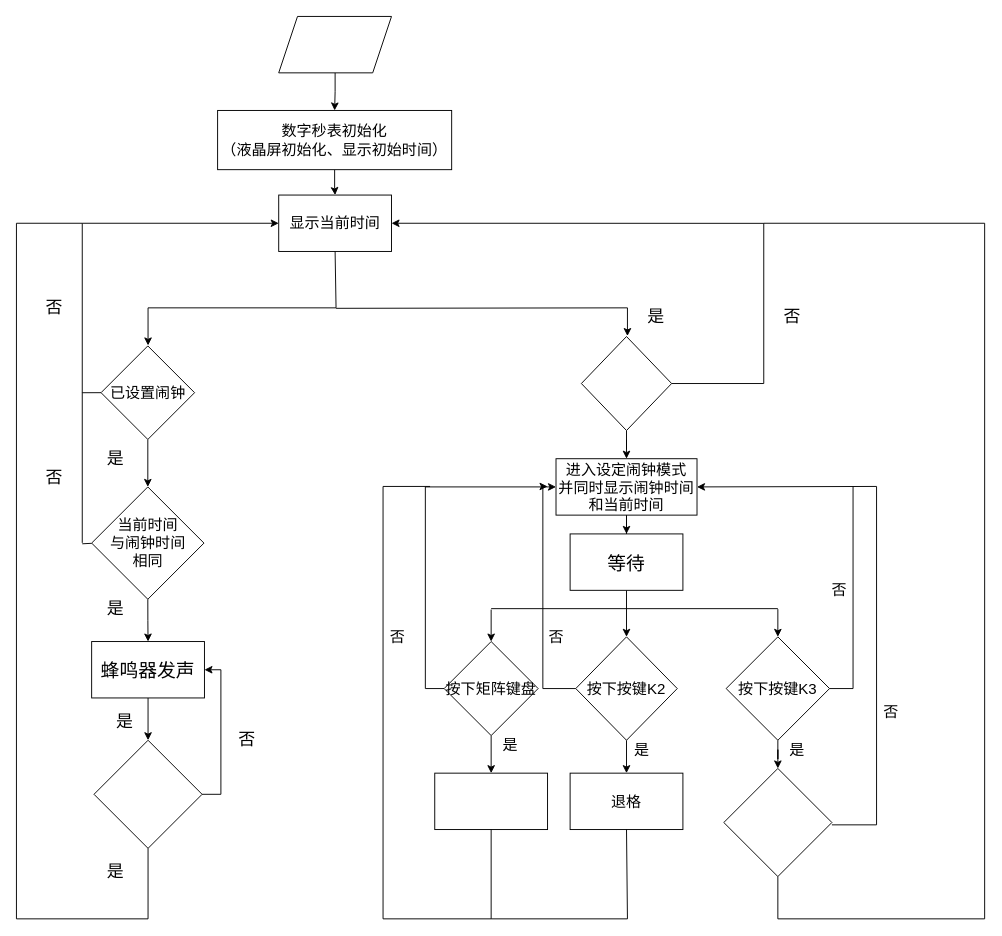
Some shapes in this 1002 by 936 pixel diagram are drawn without their labels. Each missing label, with the centre of its shape:
"已经 输入6个数字" goes at pixel 777 822.
"开始" goes at pixel 335 44.
"按下按键K1" goes at pixel 626 383.
"按下按键K4" goes at pixel 147 793.
"显示设置的数字" goes at pixel 491 801.
